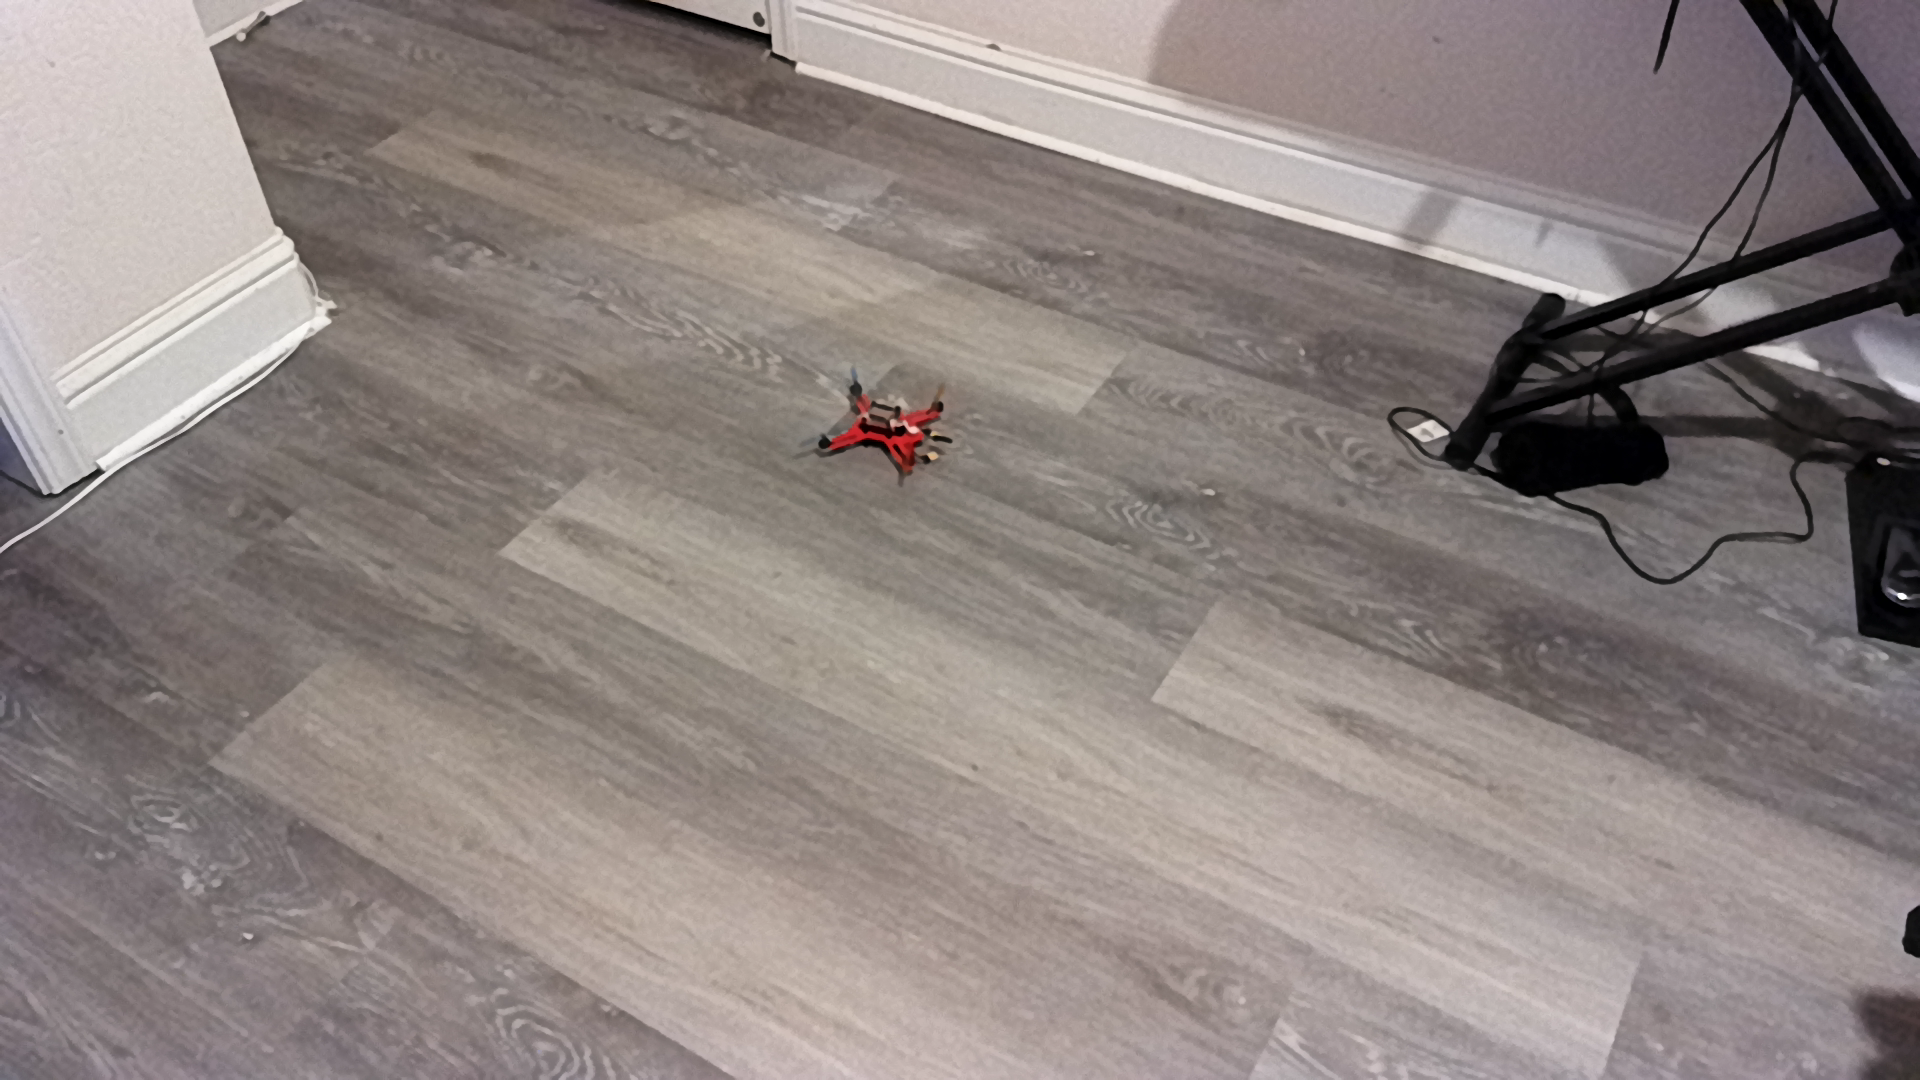drone: (794, 359, 964, 491)
